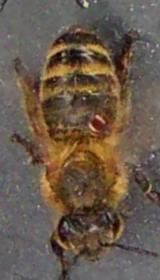varroa_mite: (80, 103, 114, 136)
